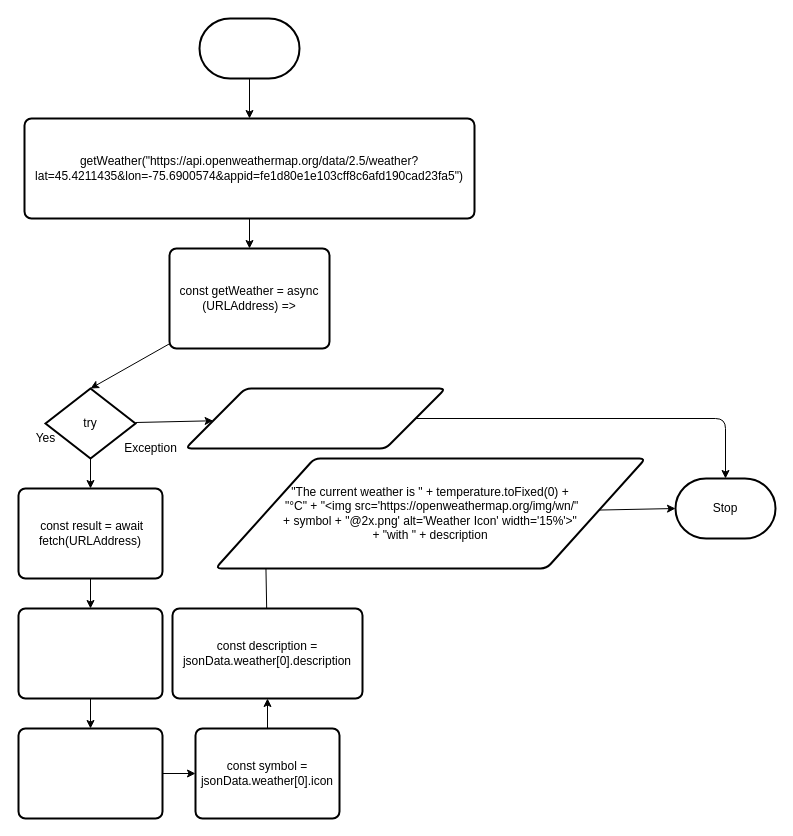
Some shapes in this 793 by 836 pixel diagram are drawn without their labels. Here are the shapes that lost their labels. From the top down, the centre of each, then its label:
pixel 249 48: Start
pixel 315 418: "Error fetching current weather."
pixel 90 653: const jsonData = await result.json()
pixel 90 773: const temperature = jsonData.main.temp - 273.15
